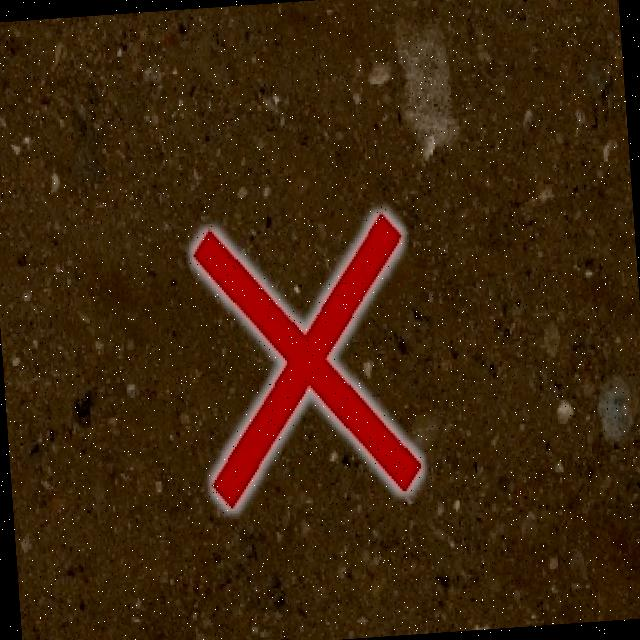x_marker: (190, 211, 421, 508)
